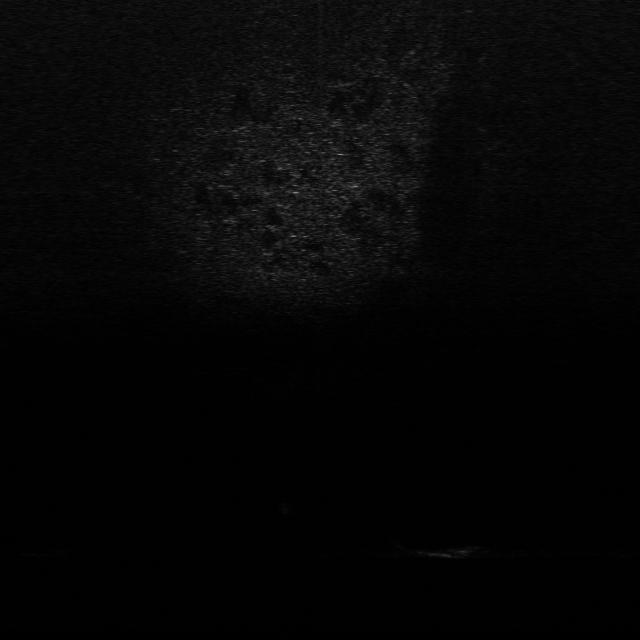metal bucket: (396, 534, 488, 562)
